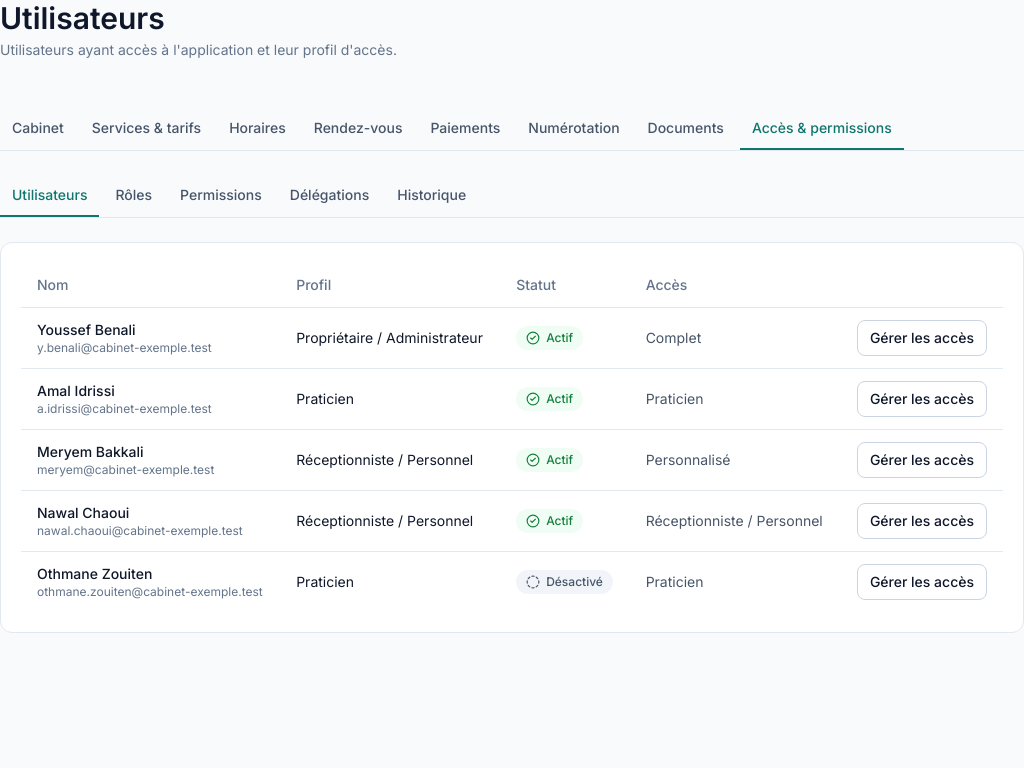
UsersPage › toggling a permission and saving updates the table's own grant/restriction counts
Click the button "Gérer les accès" in the row of "Meryem Bakkali" at coordinates (922, 460), box [857, 442, 987, 478]
(page scrolled)
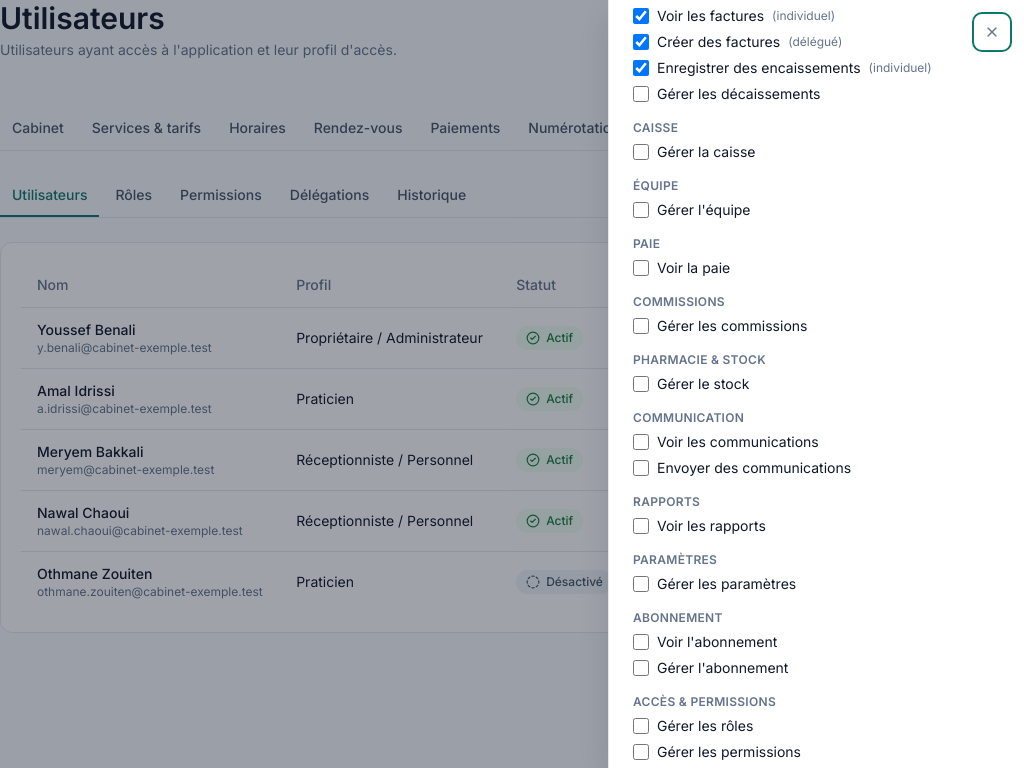
Click the checkbox labelled "Gérer le stock" at coordinates (641, 384), box [633, 376, 649, 392]
(page scrolled)
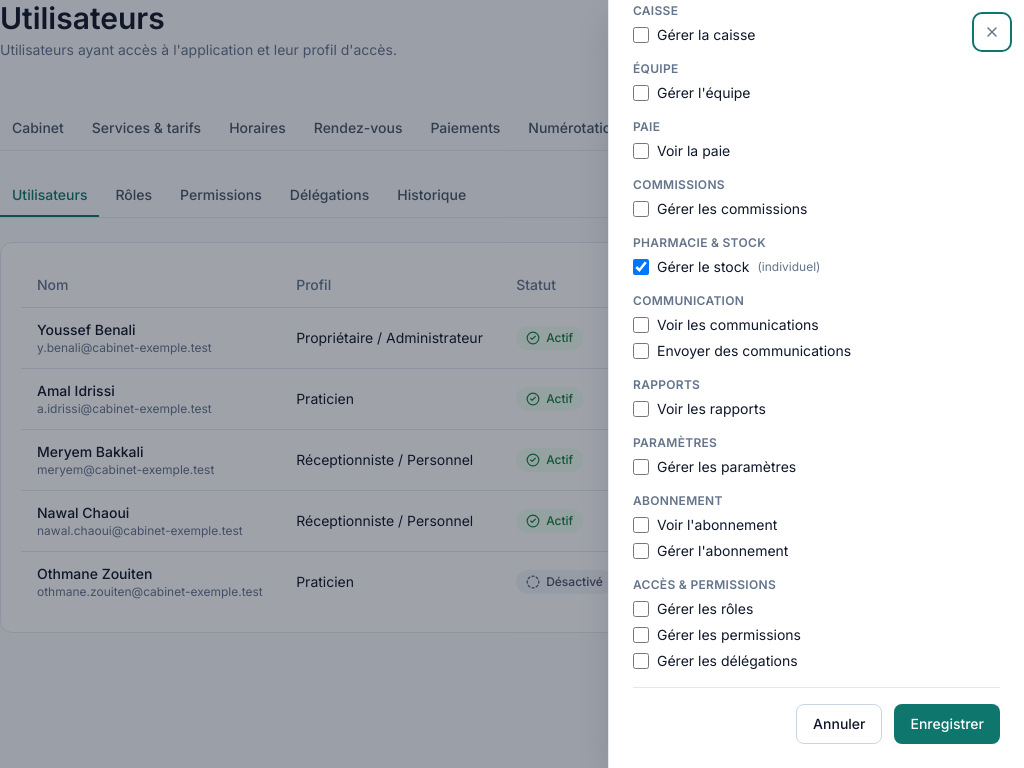
Click the button "Enregistrer" at coordinates (947, 724), box [894, 704, 1000, 744]
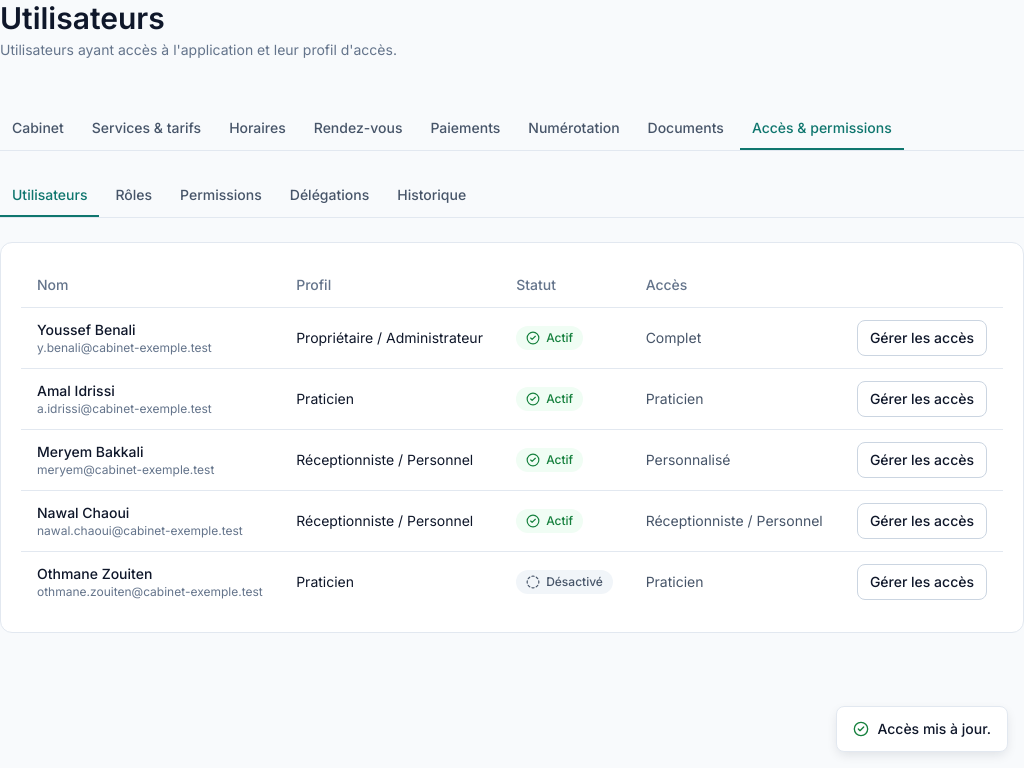
Expected: the text "Accès mis à jour." is shown, [836, 706, 1008, 752]
